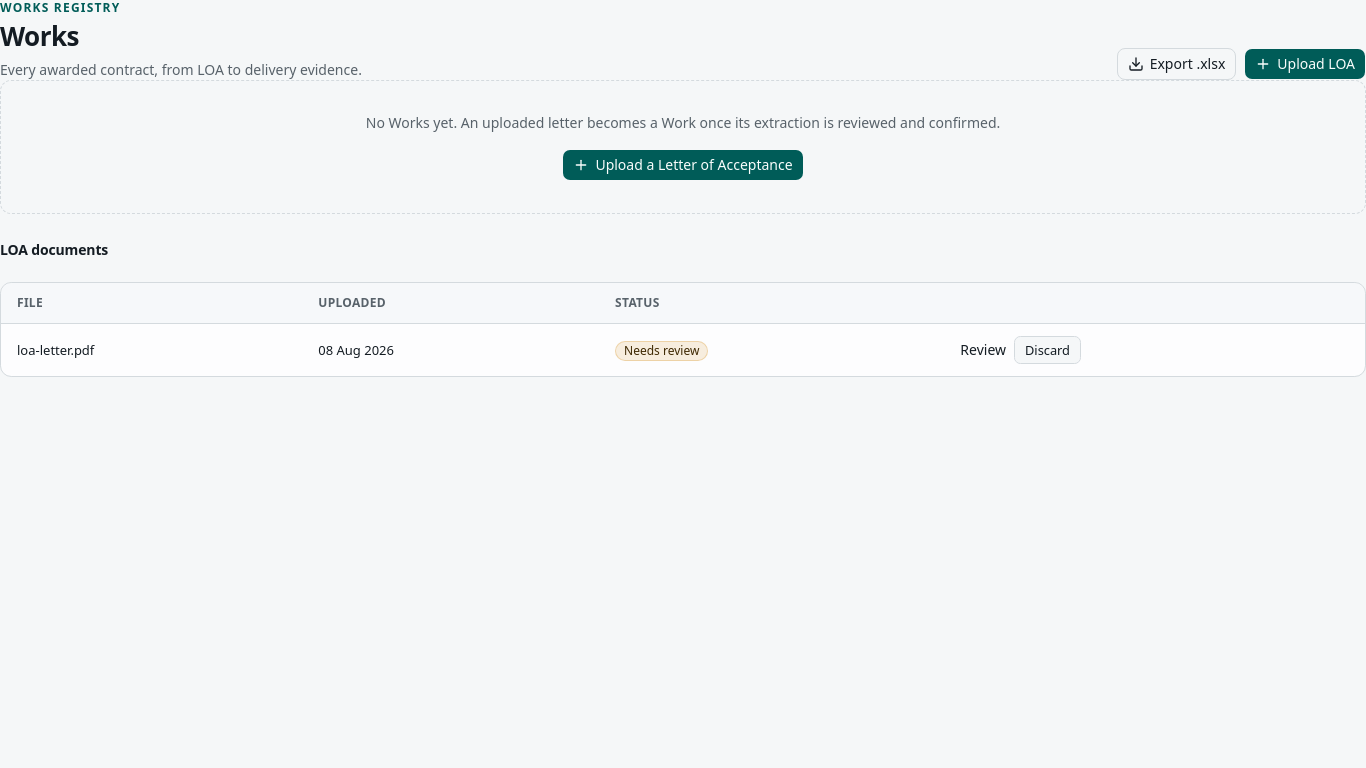
Test: Works › discards a wrong upload after one confirmation and drops it from the list
Click the button with aria-label "Discard loa-letter.pdf".
click(1048, 350)  # box [1014,336,1081,364]
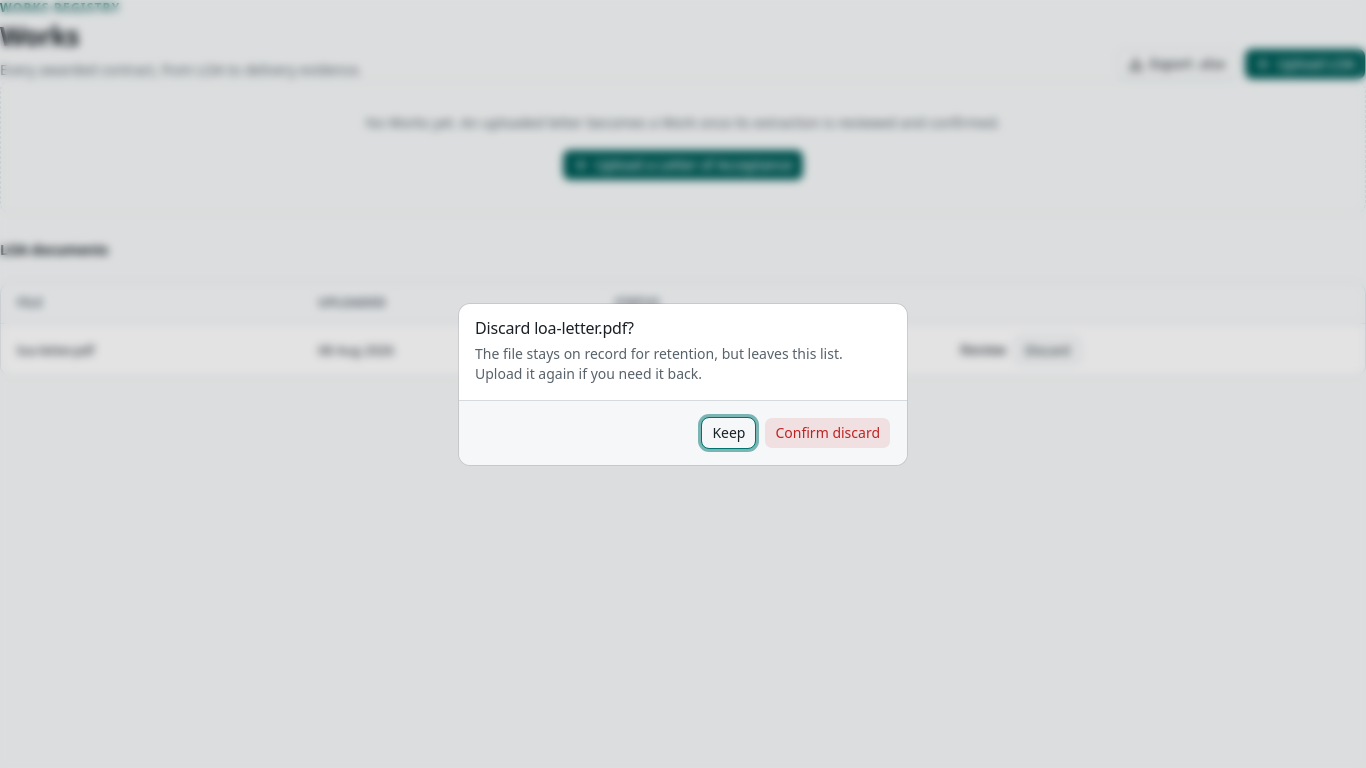
expect the text "stays on record for retention" is shown: met, box [475,344,843,382]
Click the button "Confirm discard".
click(828, 432)  # box [764,416,891,448]
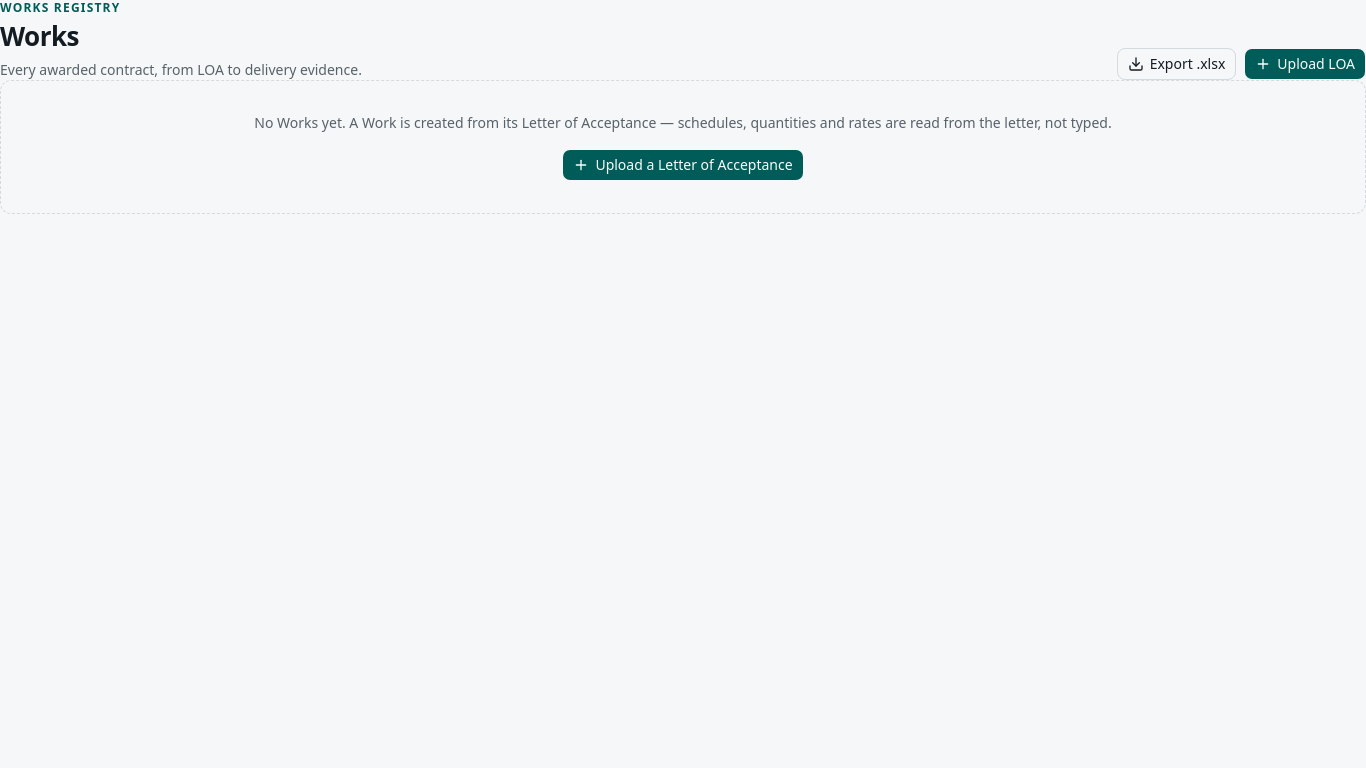
expect the column heading "loa-letter.pdf" is gone: met
